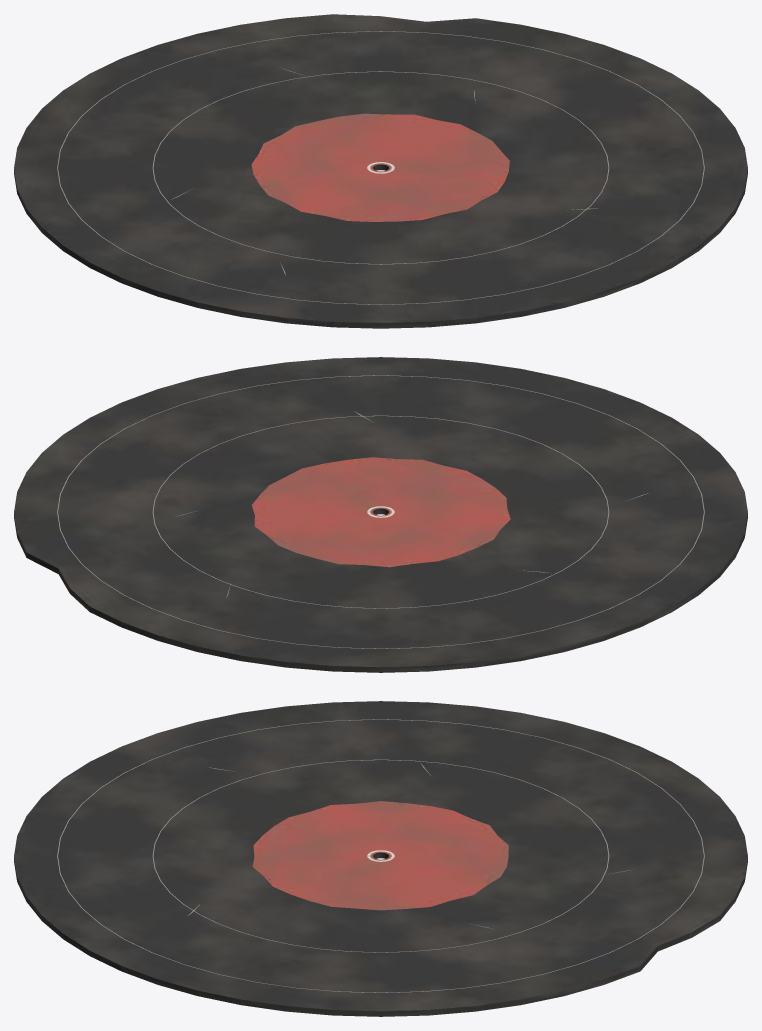
File: P18_record_disc_v2.glb
3 renders of one model, top to bottom at view 1: azimuth 30°, elevation 25°; view 2: azimuth 150°, elevation 25°; view 3: azimuth 270°, elevation 25°, orthographic.
Visible parts, largest first — view 1: Record_disc; view 2: Record_disc; view 3: Record_disc.
Part boxes in pixels (<box>): Record_disc: <box>14,14,747,328</box>; Record_disc: <box>14,357,747,672</box>; Record_disc: <box>14,701,747,1016</box>.
Size of the model in its own units: 0.3 by 0.00259 by 0.3.
4 materials, 4 textured.
